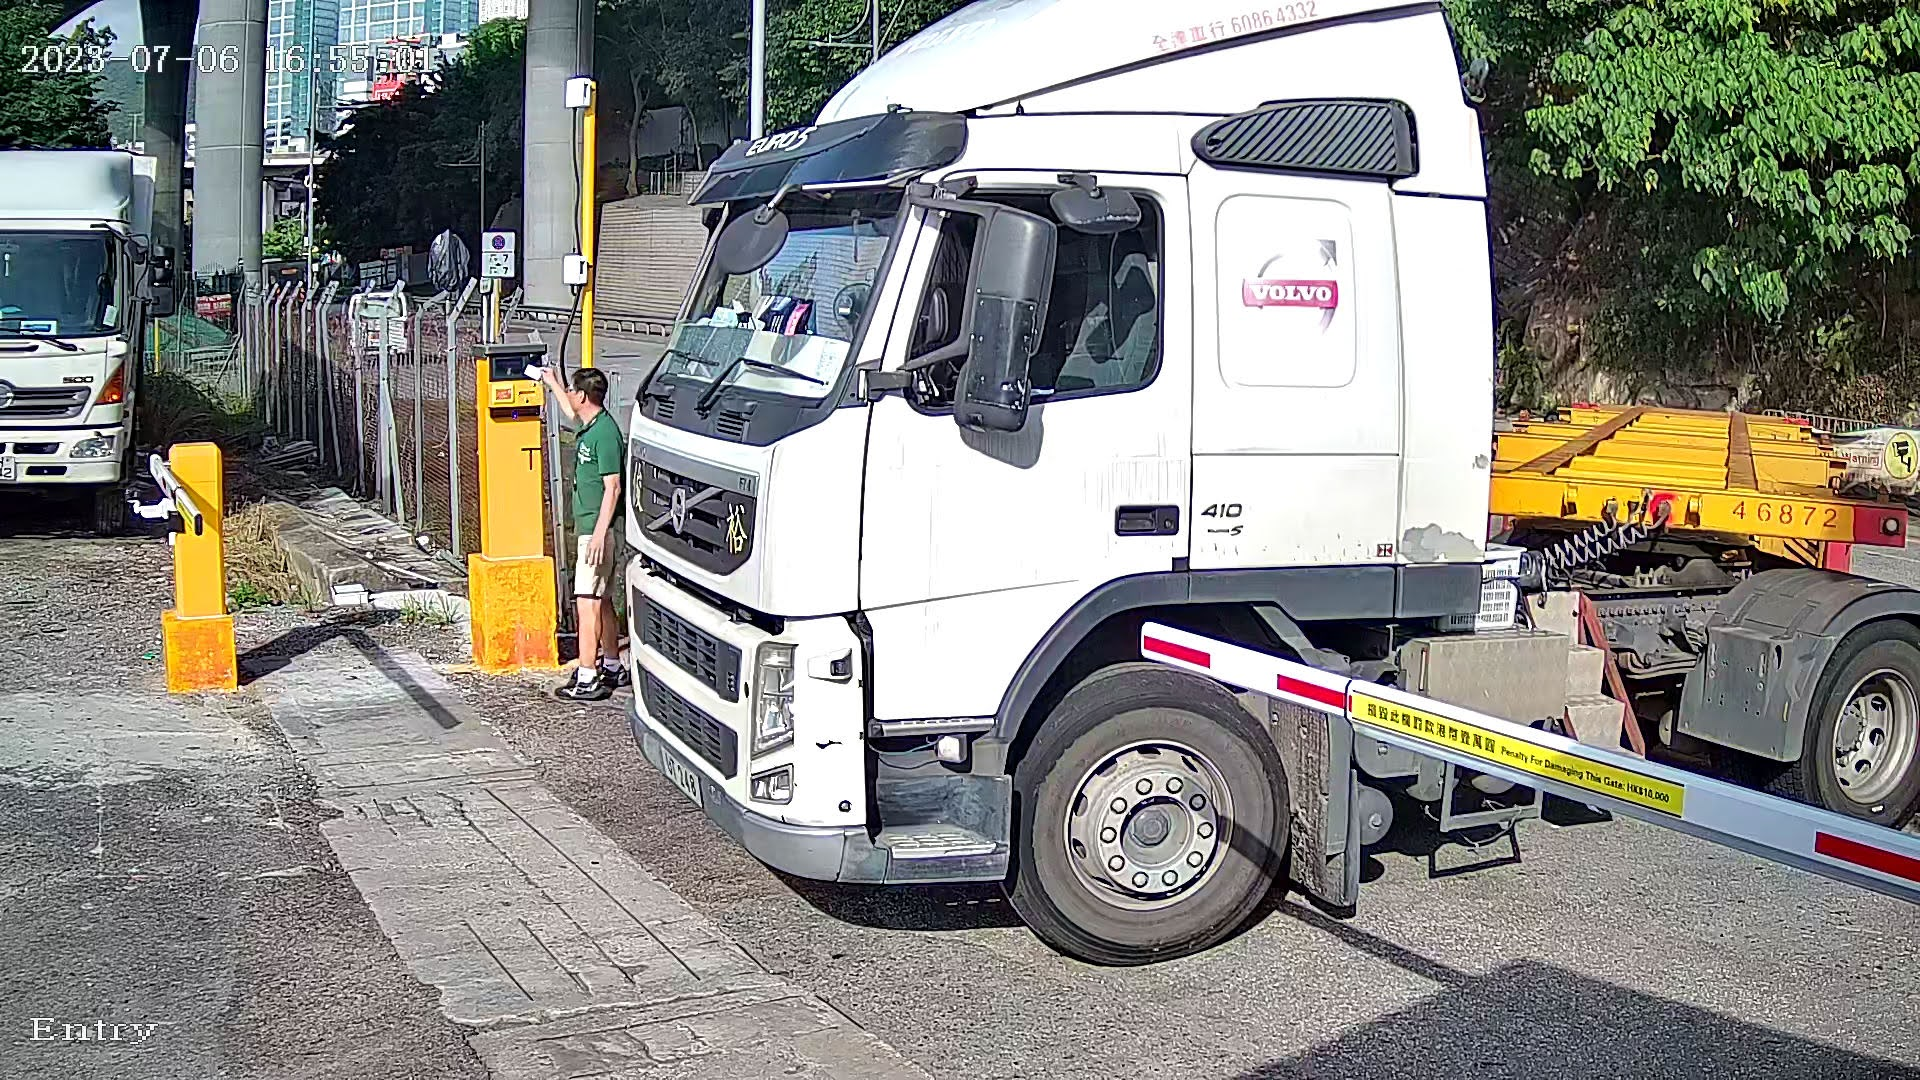tractor: (585, 1, 1898, 1021)
